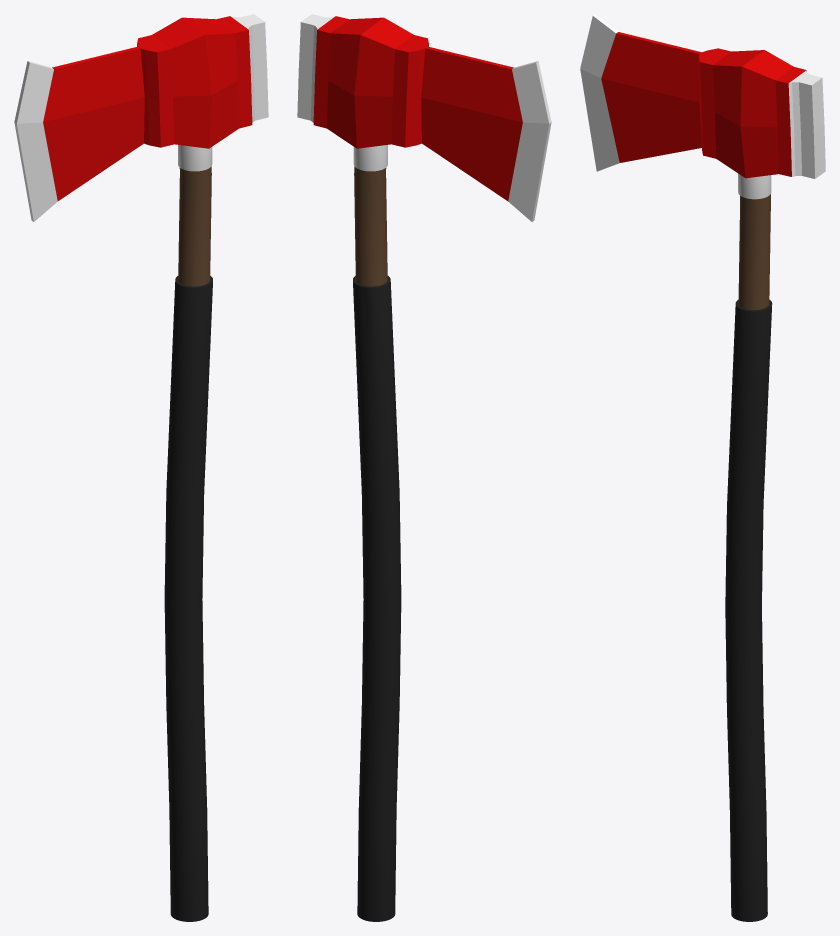
The model's file is axe.fbx.
The picture shows the model from 3 angles, left to right: view 1: azimuth 30°, elevation 25°; view 2: azimuth 150°, elevation 25°; view 3: azimuth 330°, elevation 25°; orthographic projection. The views are drawn at different scales.
Visible parts, largest first — view 1: Cylinder; view 2: Cylinder; view 3: Cylinder.
Part boxes in pixels (x1,y1,x2,y2): Cylinder: [14, 14, 268, 921]; Cylinder: [297, 14, 551, 921]; Cylinder: [580, 14, 825, 921].
Bounding box in the file's own units: 61.38 × 211 × 13.43.
